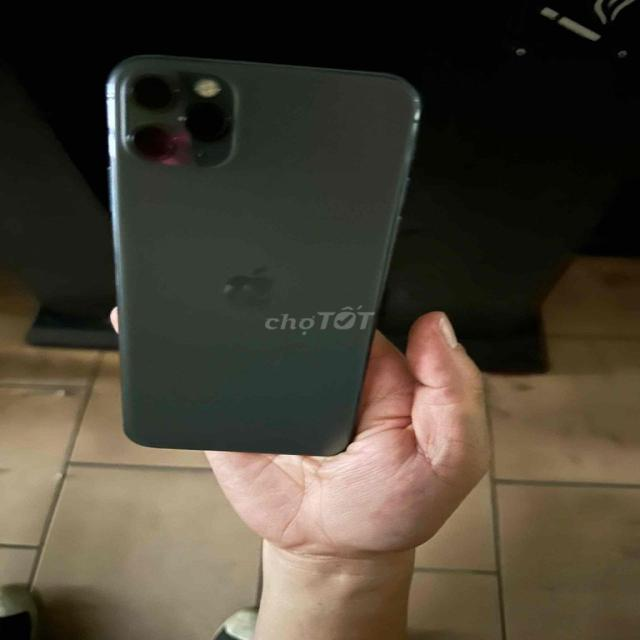gen_11: (93, 41, 451, 477)
